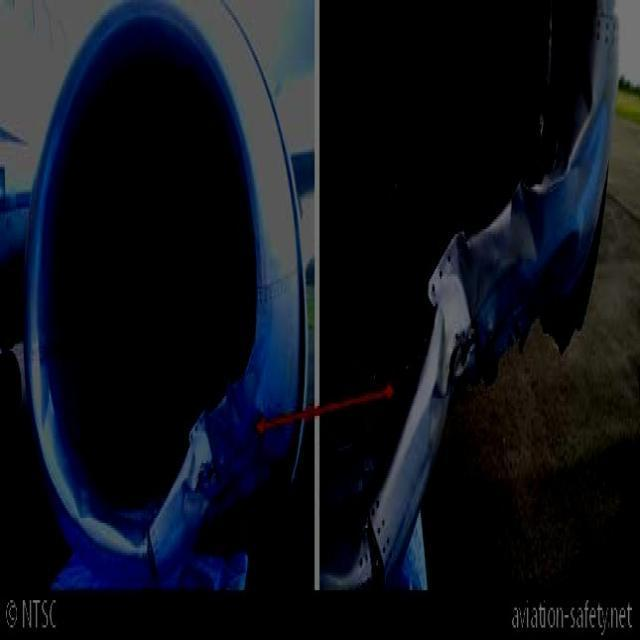dent: (559, 75, 612, 247), (509, 187, 546, 262)
